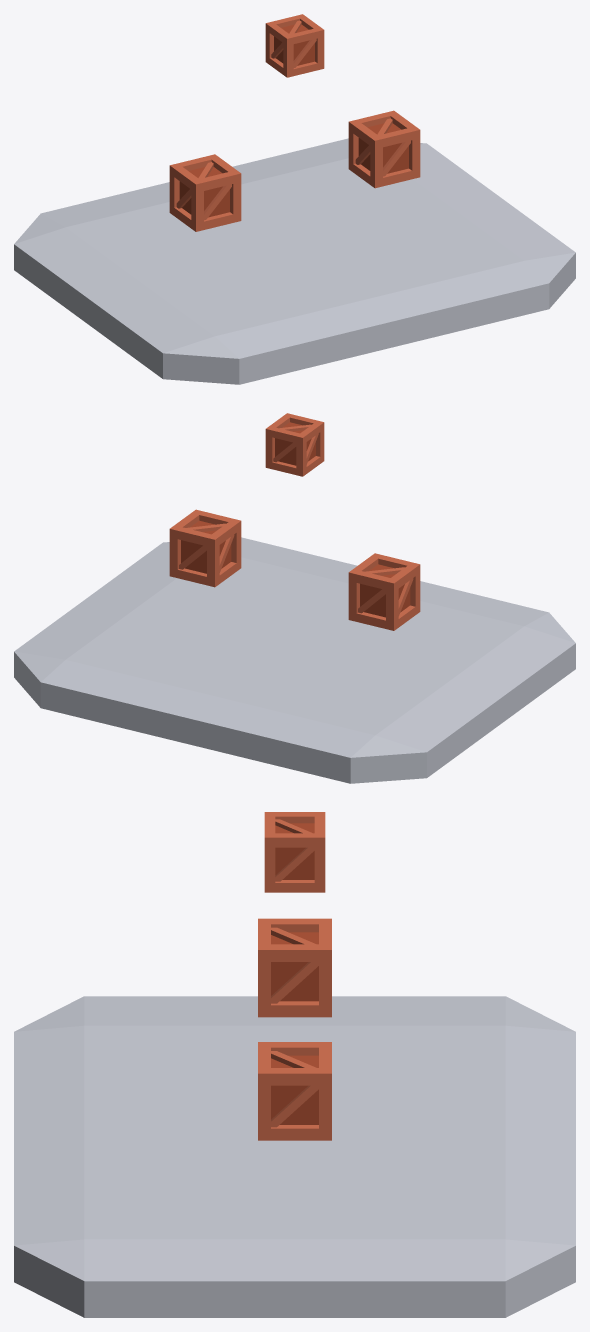
3 renders of one model, top to bottom at view 1: azimuth 30°, elevation 25°; view 2: azimuth 150°, elevation 25°; view 3: azimuth 270°, elevation 25°, orthographic. The views are drawn at different scales.
Visible parts, largest first — view 1: block_bevel, detail_crate (×3); view 2: block_bevel, detail_crate (×3); view 3: block_bevel, detail_crate (×3).
Boxes of the visible parts, bbox=[...] form: block_bevel: bbox=[14, 138, 575, 384]; detail_crate (×3): bbox=[169, 14, 420, 231]; block_bevel: bbox=[14, 537, 575, 783]; detail_crate (×3): bbox=[169, 413, 420, 630]; block_bevel: bbox=[14, 996, 575, 1317]; detail_crate (×3): bbox=[258, 812, 331, 1140].
Bounding box in the file's own units: 3 × 1.75 × 2.5.
